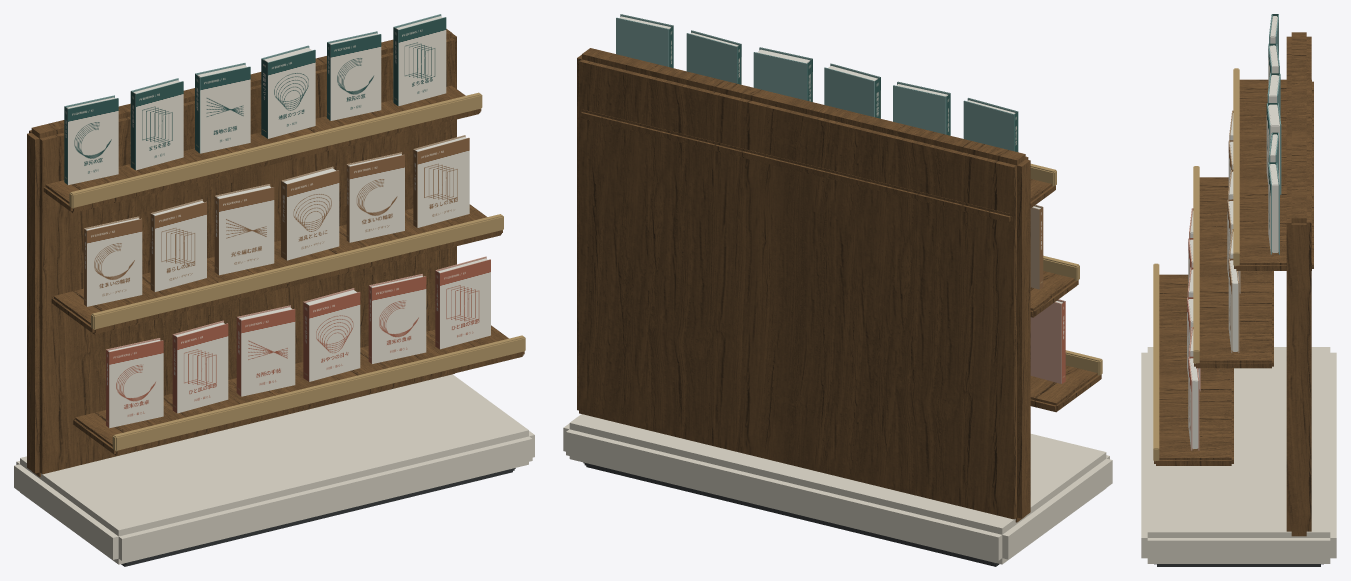
File: collection_v29_book_0.glb
3 views of the same model, side by side, from view 1: azimuth 30°, elevation 25°; view 2: azimuth 150°, elevation 25°; view 3: azimuth 270°, elevation 25° (orthographic). The views are drawn at different scales.
Parts seen in each view (by area): view 1: collection_v29_book_0_CC0_Oak_veneer, collection_v29_book_0_V29_ivory_lacquer, collection_v29_book_0_Satin_champagne, collection_v29_book_0_V24_book_cover_1_0, collection_v29_book_0_V24_book_cover_1_0.001, collection_v29_book_0_V24_book_cover_1_2, collection_v29_book_0_V24_book_cover_2_0, collection_v29_book_0_V24_book_cover_2_2, collection_v29_book_0_V24_book_cover_2_0.001, collection_v29_book_0_V24_book_cover_1_3, collection_v29_book_0_V24_book_cover_1_1.001, collection_v29_book_0_V24_book_cover_1_1 (+10 smaller); view 2: collection_v29_book_0_CC0_Oak_veneer, collection_v29_book_0_V29_ivory_lacquer, collection_v29_book_0_Printed_binding_2_0, collection_v29_book_0_Printed_binding_0_1, collection_v29_book_0_Printed_binding_0_1.001, collection_v29_book_0_Printed_binding_0_3, collection_v29_book_0_Printed_binding_0_0, collection_v29_book_0_Printed_binding_0_0.001, collection_v29_book_0_Printed_binding_0_2, collection_v29_book_0_Anodised_graphite, collection_v29_book_0_Satin_champagne, collection_v29_book_0_Printed_binding_1_0; view 3: collection_v29_book_0_CC0_Oak_veneer, collection_v29_book_0_V29_ivory_lacquer, collection_v29_book_0_Satin_champagne, collection_v29_book_0_Paper_page_edges.006, collection_v29_book_0_Paper_page_edges.018, collection_v29_book_0_Paper_page_edges.012, collection_v29_book_0_Anodised_graphite, collection_v29_book_0_Paper_page_edges.004, collection_v29_book_0_Printed_binding_2_1.001, collection_v29_book_0_Printed_binding_1_1.001, collection_v29_book_0_V24_book_cover_1_1.001, collection_v29_book_0_V24_book_cover_2_1.001 (+2 smaller).
Boxes of the visible parts, left/top/right/bottom form: collection_v29_book_0_CC0_Oak_veneer: left=27, top=29, right=524, bottom=477; collection_v29_book_0_V29_ivory_lacquer: left=14, top=374, right=534, bottom=564; collection_v29_book_0_Satin_champagne: left=69, top=92, right=525, bottom=451; collection_v29_book_0_V24_book_cover_1_0: left=87, top=219, right=142, bottom=306; collection_v29_book_0_V24_book_cover_1_0.001: left=349, top=155, right=404, bottom=242; collection_v29_book_0_V24_book_cover_1_2: left=219, top=187, right=274, bottom=275; collection_v29_book_0_V24_book_cover_2_0: left=109, top=340, right=163, bottom=428; collection_v29_book_0_V24_book_cover_2_2: left=241, top=309, right=295, bottom=396; collection_v29_book_0_V24_book_cover_2_0.001: left=372, top=276, right=426, bottom=363; collection_v29_book_0_V24_book_cover_1_3: left=287, top=170, right=339, bottom=260; collection_v29_book_0_V24_book_cover_1_1.001: left=417, top=138, right=469, bottom=227; collection_v29_book_0_V24_book_cover_1_1: left=155, top=202, right=206, bottom=291; collection_v29_book_0_CC0_Oak_veneer: left=577, top=48, right=1101, bottom=522; collection_v29_book_0_V29_ivory_lacquer: left=563, top=414, right=1112, bottom=564; collection_v29_book_0_Printed_binding_2_0: left=1030, top=299, right=1064, bottom=383; collection_v29_book_0_Printed_binding_0_1: left=893, top=82, right=950, bottom=134; collection_v29_book_0_Printed_binding_0_1.001: left=616, top=14, right=672, bottom=66; collection_v29_book_0_Printed_binding_0_3: left=753, top=47, right=812, bottom=100; collection_v29_book_0_Printed_binding_0_0: left=963, top=98, right=1017, bottom=150; collection_v29_book_0_Printed_binding_0_0.001: left=686, top=30, right=740, bottom=83; collection_v29_book_0_Printed_binding_0_2: left=824, top=63, right=880, bottom=117; collection_v29_book_0_Anodised_graphite: left=583, top=462, right=999, bottom=566; collection_v29_book_0_Satin_champagne: left=1030, top=163, right=1102, bottom=375; collection_v29_book_0_Printed_binding_1_0: left=1030, top=205, right=1042, bottom=289; collection_v29_book_0_CC0_Oak_veneer: left=1154, top=32, right=1313, bottom=536; collection_v29_book_0_V29_ivory_lacquer: left=1141, top=347, right=1336, bottom=563; collection_v29_book_0_Satin_champagne: left=1153, top=68, right=1239, bottom=461; collection_v29_book_0_Paper_page_edges.006: left=1269, top=164, right=1278, bottom=252; collection_v29_book_0_Paper_page_edges.018: left=1189, top=358, right=1198, bottom=448; collection_v29_book_0_Paper_page_edges.012: left=1230, top=260, right=1238, bottom=351; collection_v29_book_0_Anodised_graphite: left=1154, top=564, right=1323, bottom=566; collection_v29_book_0_Paper_page_edges.004: left=1268, top=104, right=1279, bottom=183; collection_v29_book_0_Printed_binding_2_1.001: left=1188, top=357, right=1199, bottom=450; collection_v29_book_0_Printed_binding_1_1.001: left=1228, top=259, right=1239, bottom=352; collection_v29_book_0_V24_book_cover_1_1.001: left=1228, top=260, right=1231, bottom=352; collection_v29_book_0_V24_book_cover_2_1.001: left=1188, top=358, right=1191, bottom=449.
Bounding box in the file's own units: 1.8 × 1.67 × 0.78.
76 materials, 37 textured.
